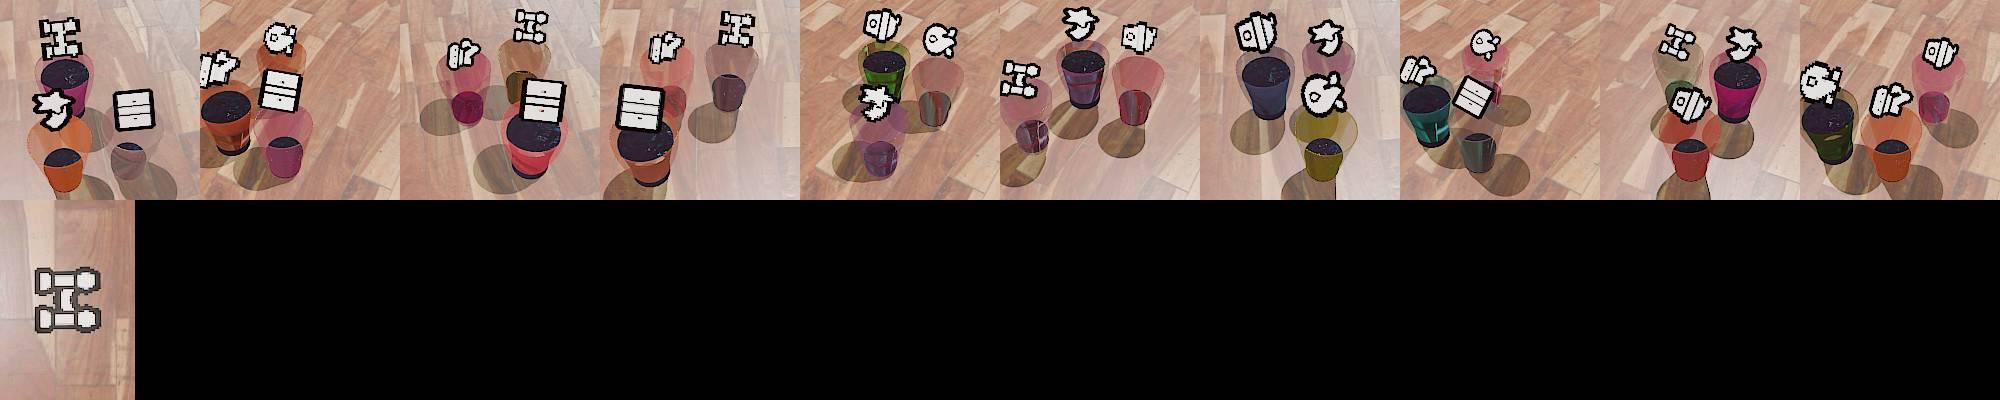icon: (29, 261, 106, 332), (615, 83, 667, 134), (519, 76, 566, 125), (1452, 71, 1497, 121), (259, 66, 304, 116), (1300, 71, 1347, 116), (112, 87, 156, 131), (40, 17, 83, 61), (1798, 60, 1842, 103), (1236, 11, 1278, 55), (999, 59, 1042, 99), (32, 89, 75, 130), (1867, 82, 1913, 120), (1668, 85, 1712, 125), (199, 48, 240, 89), (1658, 23, 1699, 62), (856, 84, 898, 122), (718, 9, 756, 48), (862, 8, 903, 45), (1307, 19, 1346, 57), (1061, 6, 1099, 43), (648, 29, 685, 66), (1724, 25, 1761, 61), (263, 20, 298, 57), (1120, 20, 1157, 56), (922, 22, 958, 59), (513, 8, 548, 45), (1921, 37, 1958, 71), (1399, 54, 1436, 87), (446, 38, 482, 71), (1468, 27, 1503, 60)
